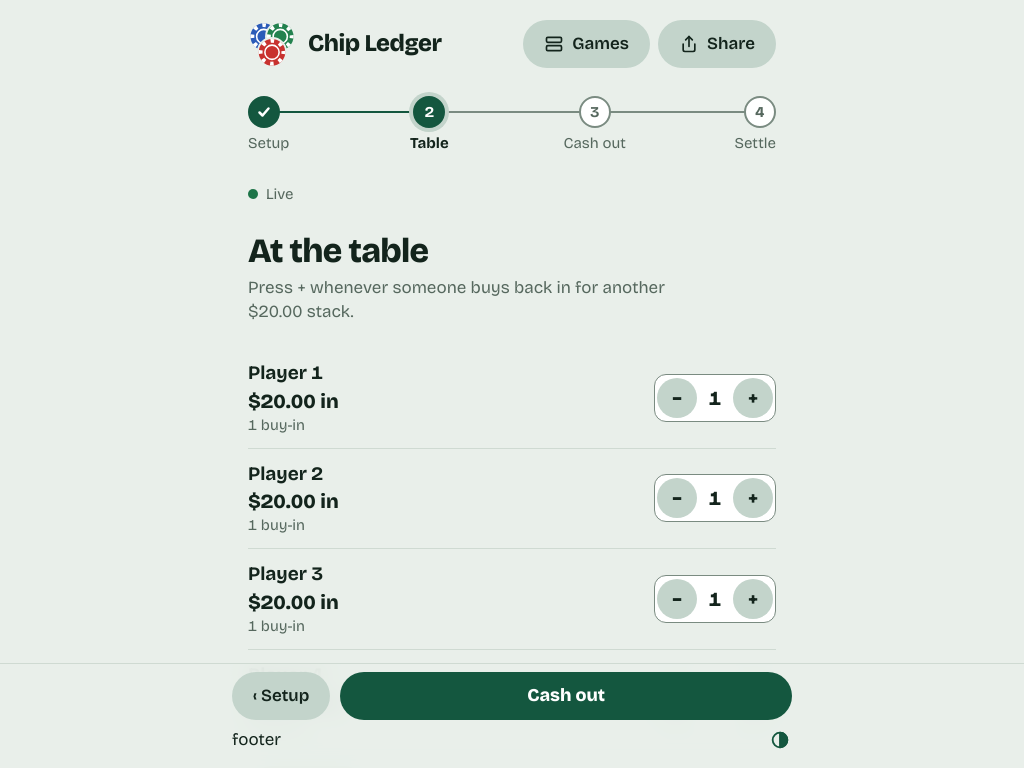
Test: SharedGameApp: editing (REQ-0003-07, -10, -14) › REQ-0003-23: shows and says why a change was not saved, and can be dismissed
Click the button named "Add a buy-in for Player 1": {"x": 753, "y": 398} [733,378,773,418]
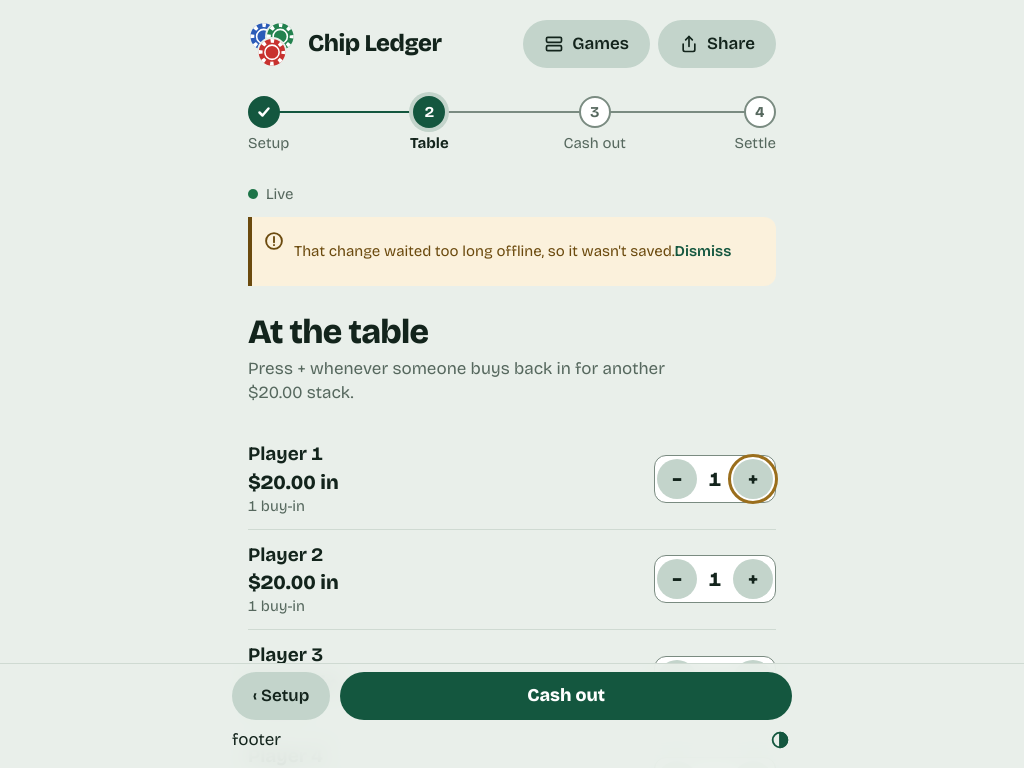
Expected: the element named "Buy-ins for Player 1" shows "1", [709,467,721,491]
Result: the text "That change waited too long offline, so it wasn't saved." is shown at [294,242,675,260]
Click the button "Dismiss": {"x": 703, "y": 251} [675,229,731,274]
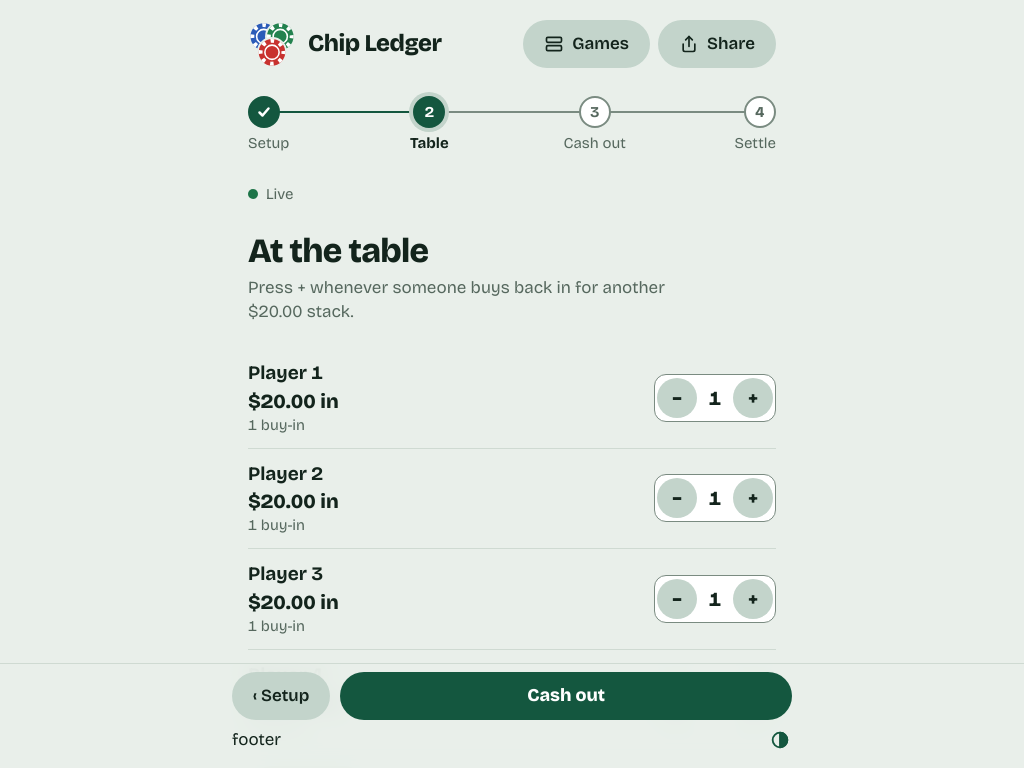
Result: the button "Dismiss" is gone
